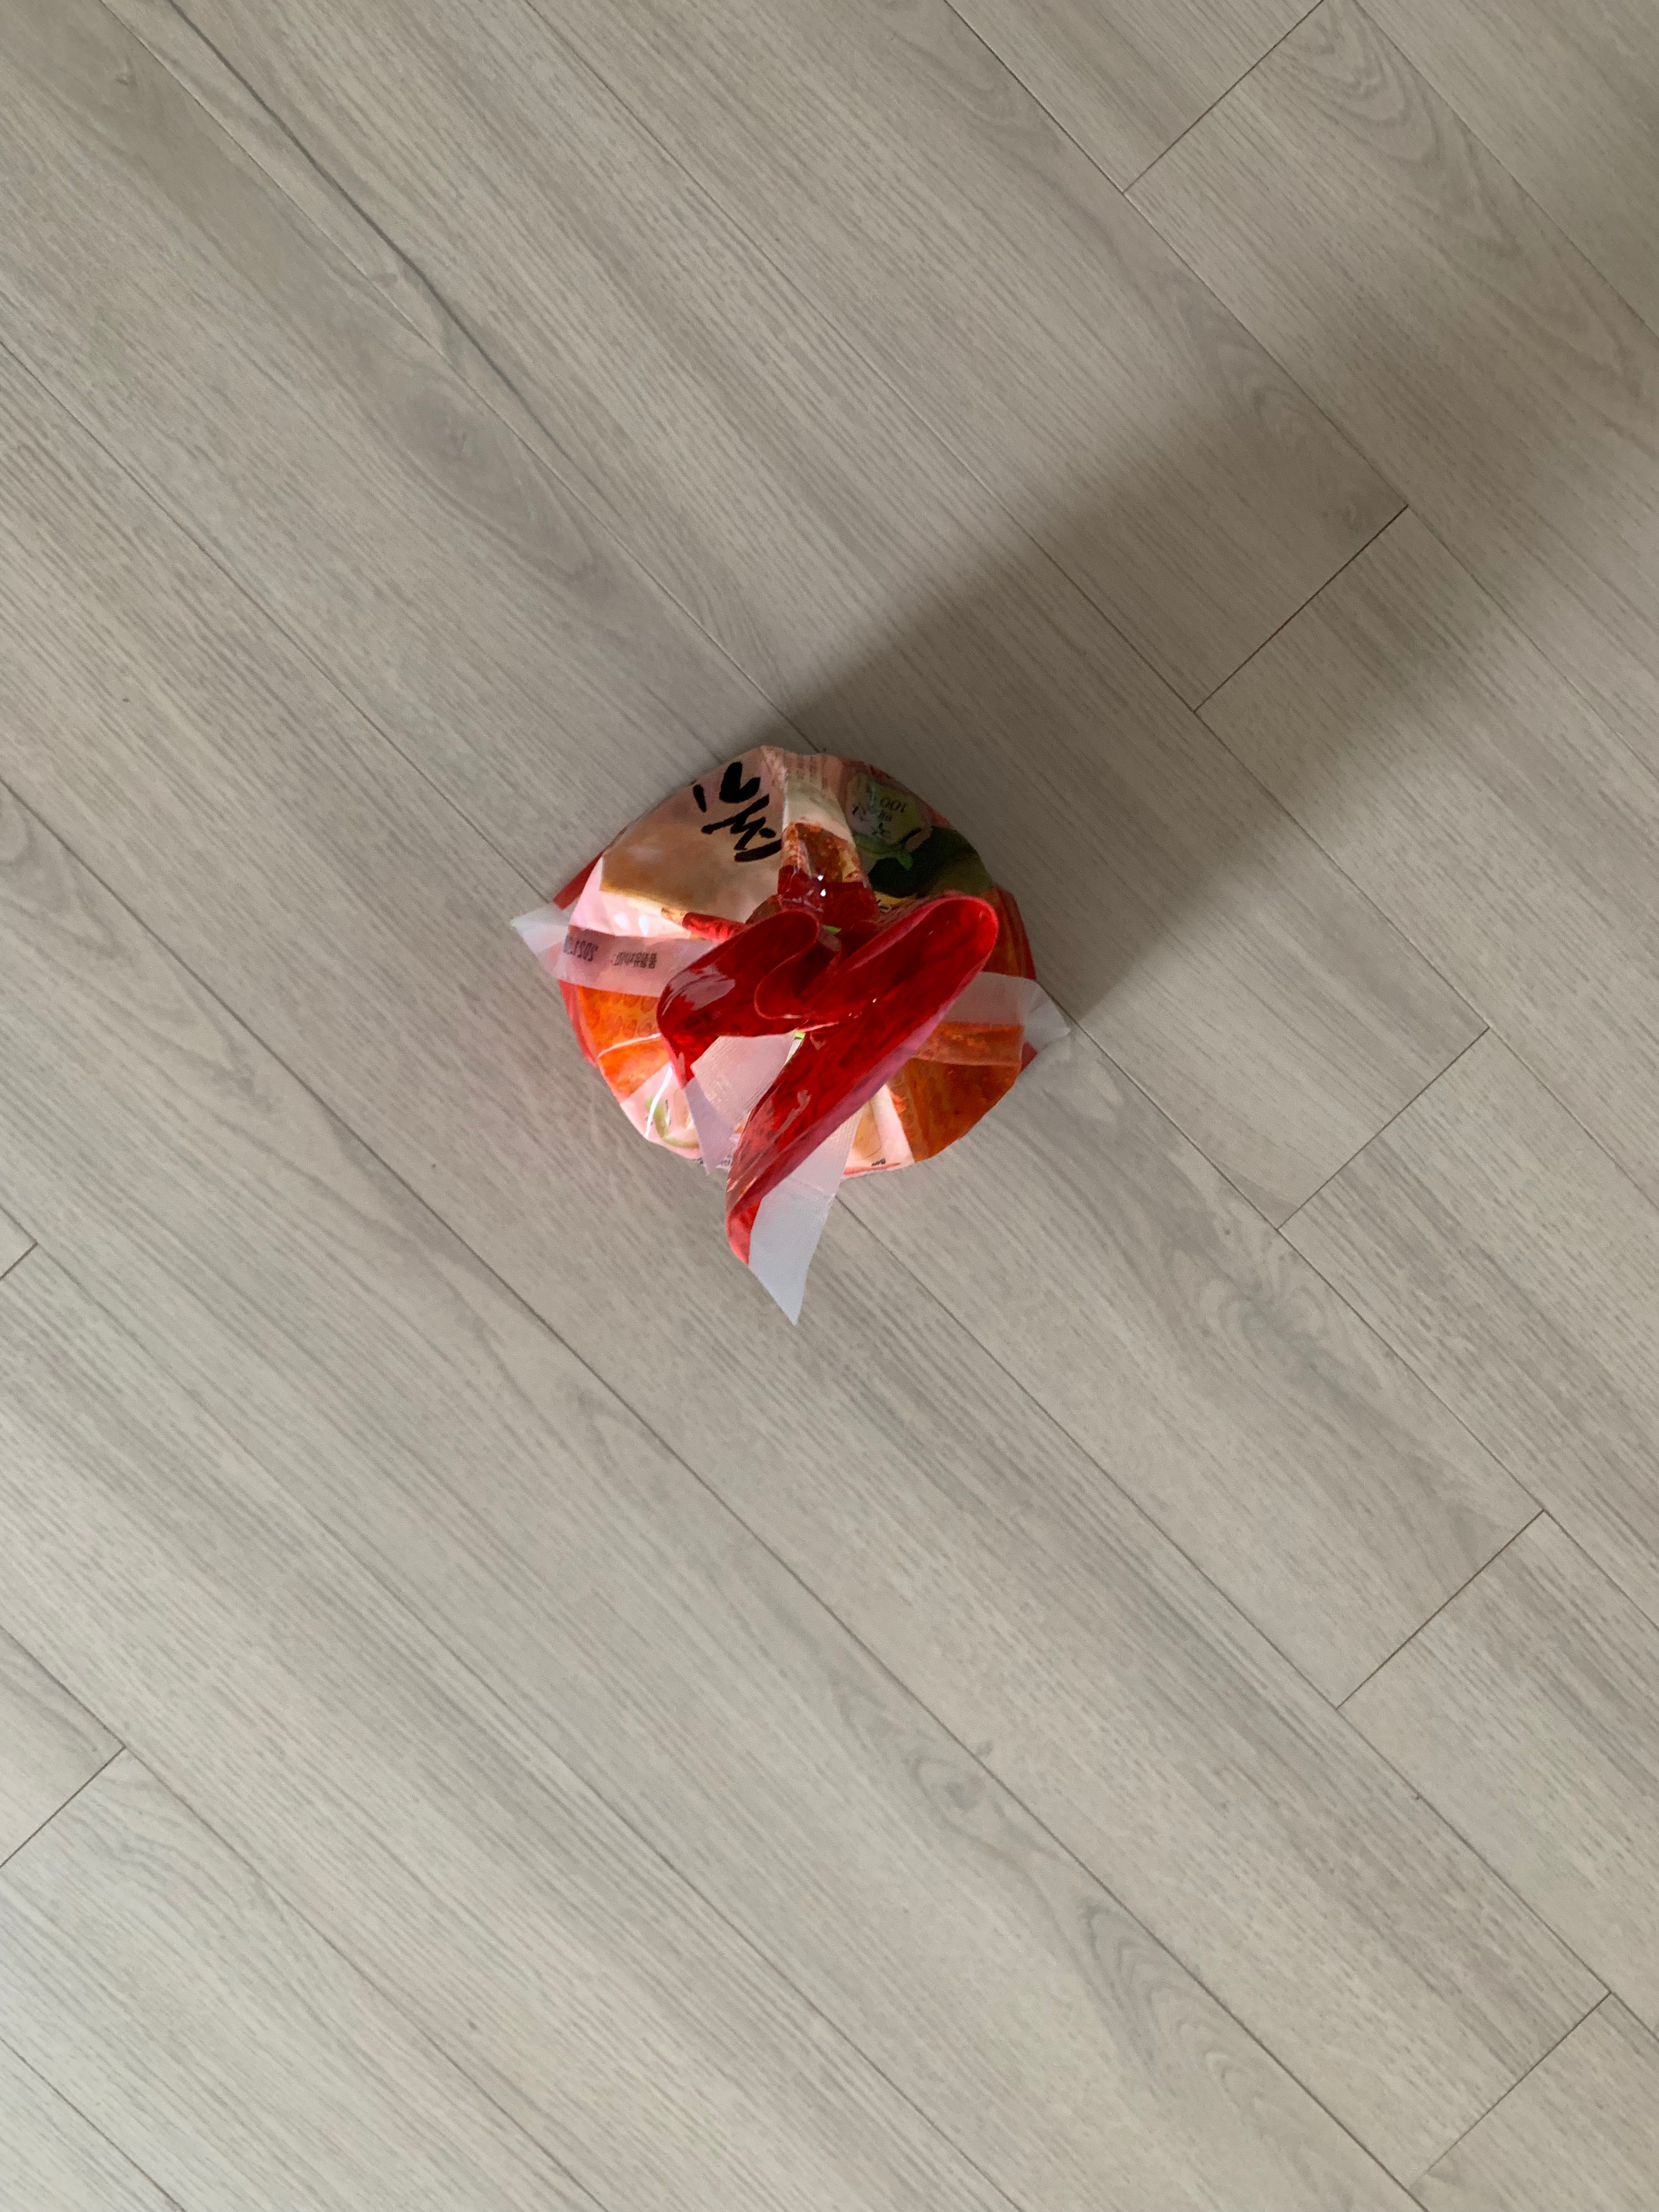kimchi: (561, 747, 1044, 1245)
